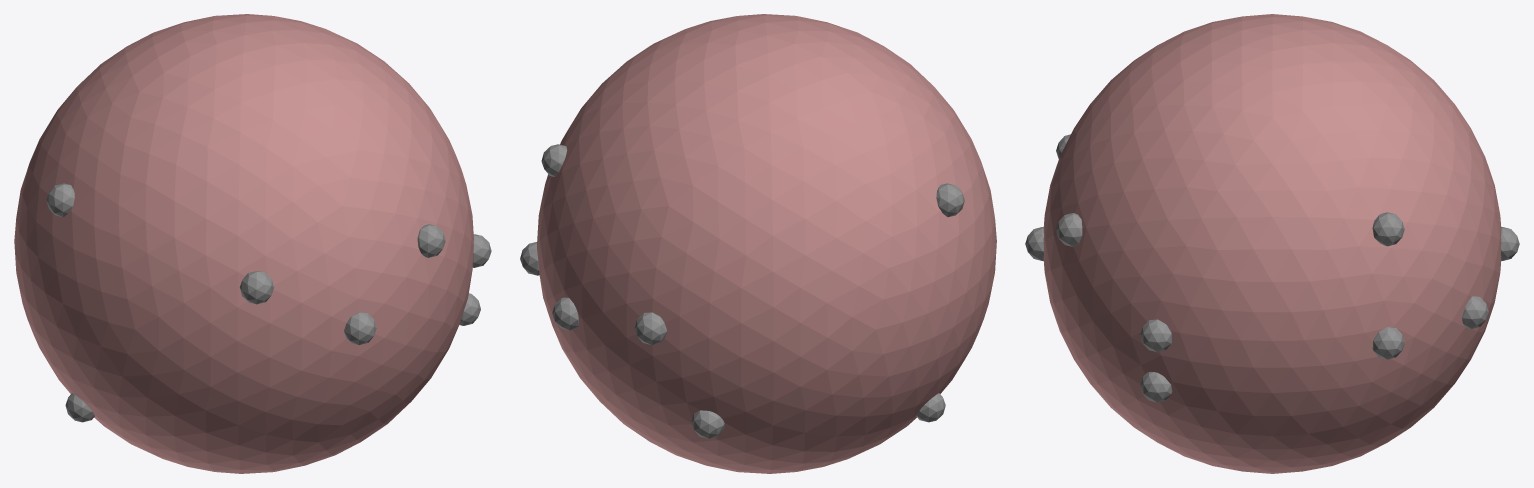
Rendered from nucleus.glb.
The picture shows the model from 3 angles, left to right: view 1: azimuth 30°, elevation 25°; view 2: azimuth 150°, elevation 25°; view 3: azimuth 270°, elevation 25°; orthographic projection.
Parts seen in each view (by area): view 1: world; view 2: world; view 3: world.
Part boxes in pixels (<box>): world: <box>14,14,491,473</box>; world: <box>520,14,996,473</box>; world: <box>1025,14,1519,473</box>.
Size of the model in its own units: 4 by 4 by 4.3.
